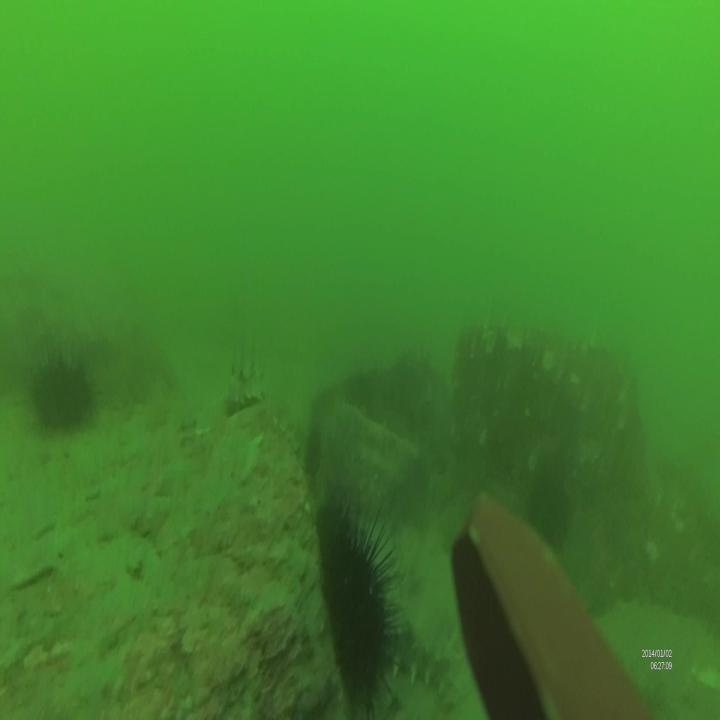echinus: (285, 490, 404, 720), (27, 348, 98, 432)
holothurian: (224, 351, 301, 457)
